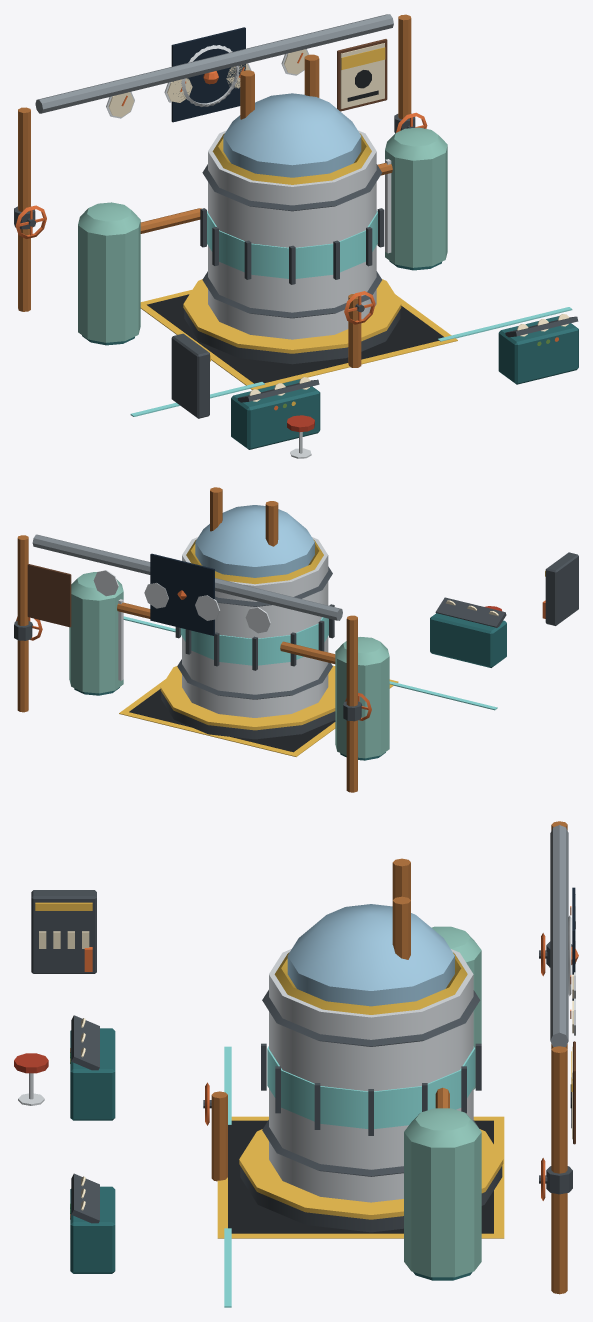
Rendered from Room_ReactorCore_L3.fbx.
3 renders of one model, top to bottom at view 1: azimuth 30°, elevation 25°; view 2: azimuth 150°, elevation 25°; view 3: azimuth 270°, elevation 25°, orthographic. The views are drawn at different scales.
Parts seen in each view (by area): view 1: Decor, Vessel, DecorGlass, Tank1, Tank2, DecorNeon, Console1, Console2, FuseBox, Plinth, Standpipe; view 2: Decor, Vessel, DecorGlass, Tank2, Tank1, DecorNeon, Console1, FuseBox, Plinth; view 3: Decor, Vessel, DecorGlass, Tank2, DecorNeon, FuseBox, Console1, Console2, Plinth, Standpipe, Tank1.
Part boxes in pixels (x1,y1,x2,y2): Decor: (14,14,578,458); Vessel: (208,130,376,339); DecorGlass: (223,93,361,177); Tank1: (78,220,140,342); Tank2: (385,146,447,267); DecorNeon: (130,71,572,416); Console1: (231,379,320,449); Console2: (498,316,578,384); FuseBox: (171,333,209,418); Plinth: (184,309,400,364); Standpipe: (348,294,361,367); Decor: (14,487,545,792); Vessel: (182,537,328,717); DecorGlass: (195,505,314,577); Tank2: (69,592,123,693); Tank1: (335,652,389,758); DecorNeon: (123,590,497,710); Console1: (430,613,506,667); FuseBox: (545,552,578,625); Plinth: (161,692,335,739); Decor: (14,821,575,1294); Vessel: (269,949,473,1202); DecorGlass: (287,904,454,1006); Tank2: (404,1132,481,1277); DecorNeon: (70,946,578,1307); FuseBox: (31,890,96,973); Console1: (70,1028,115,1120); Console2: (70,1186,115,1273); Plinth: (240,1166,502,1232); Standpipe: (211,1091,227,1181); Tank1: (466,951,481,1089).
Bounding box in the file's own units: 31.05 × 16.17 × 27.6.
